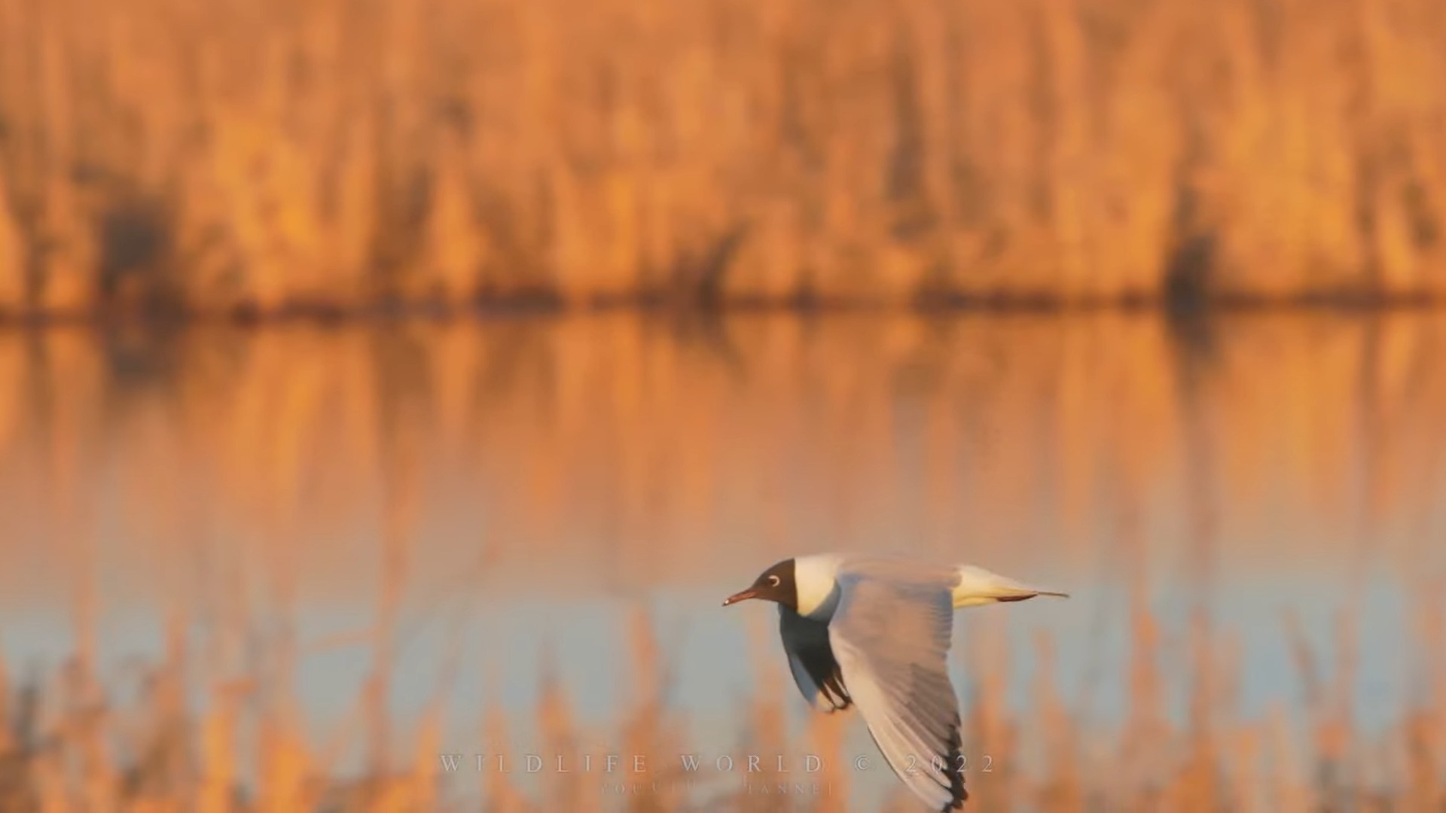not_drone: (723, 544, 1058, 813)
